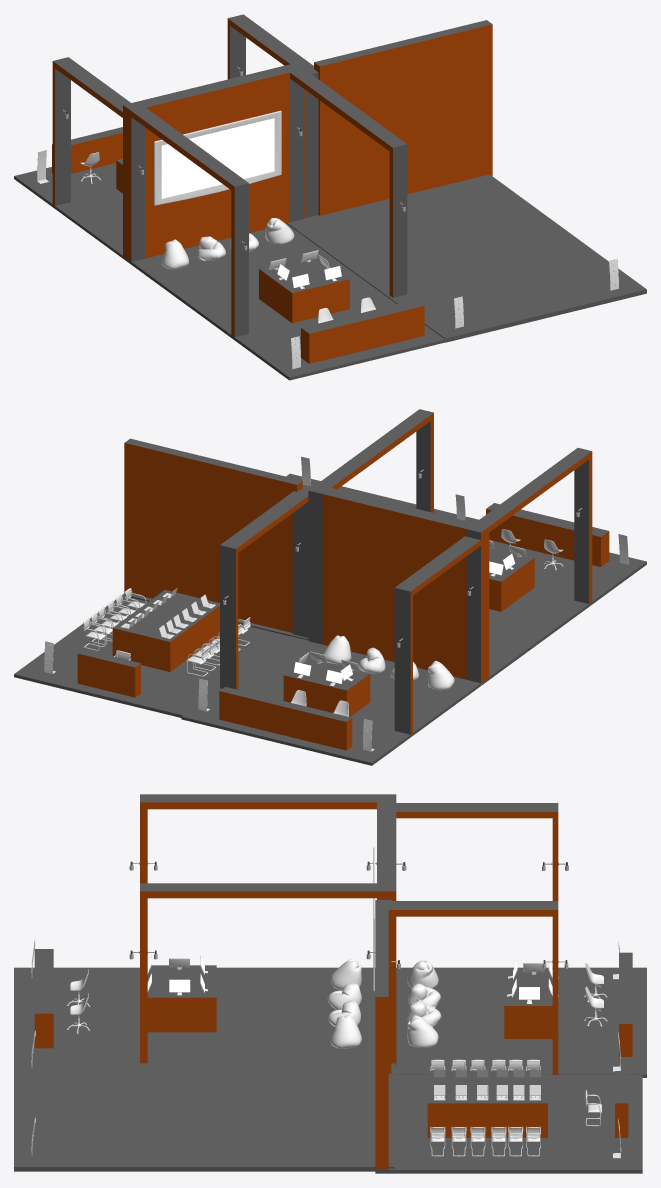
File: diamondStall.gltf
3 renders of one model, top to bottom at view 1: azimuth 30°, elevation 25°; view 2: azimuth 150°, elevation 25°; view 3: azimuth 270°, elevation 25°, orthographic. The views are drawn at different scales.
Visible parts, largest first — view 1: stand_7, Cube, stand_6, stand_7__1_, TV_screen, TV, pouf, pouf_1__1_; view 2: stand_7, stand_6, stand_7__1_, Cube, pouf_1__1__1, pouf_1_1, pouf_2_1; view 3: Cube, stand_7, stand_7__1_, stand_6, pouf, pouf_1__1_, pouf_1_1, pouf_1__1__1, pouf_2__1__1.
Part boxes in pixels (x1,y1,x2,y2): stand_7: (123, 63, 462, 380); Cube: (287, 174, 646, 342); stand_6: (314, 20, 492, 215); stand_7__1_: (14, 14, 318, 264); TV_screen: (161, 118, 274, 198); TV: (154, 110, 281, 205); pouf: (162, 236, 225, 269); pouf_1__1_: (265, 218, 294, 244); stand_7: (308, 409, 646, 683); stand_6: (14, 438, 302, 717); stand_7__1_: (181, 488, 488, 765); Cube: (124, 473, 478, 640); pouf_1__1__1: (428, 660, 454, 690); pouf_1_1: (323, 635, 351, 664); pouf_2_1: (358, 647, 385, 673); Cube: (14, 1054, 394, 1171); stand_7: (14, 794, 396, 1064); stand_7__1_: (388, 803, 646, 1077); stand_6: (375, 900, 642, 1173); pouf: (327, 959, 361, 1009); pouf_1__1_: (330, 1014, 361, 1048); pouf_1_1: (407, 1015, 438, 1047); pouf_1__1__1: (407, 960, 438, 988); pouf_2__1__1: (408, 983, 440, 1007).
Size of the model in its own units: 12.51 by 5.12 by 16.56.
